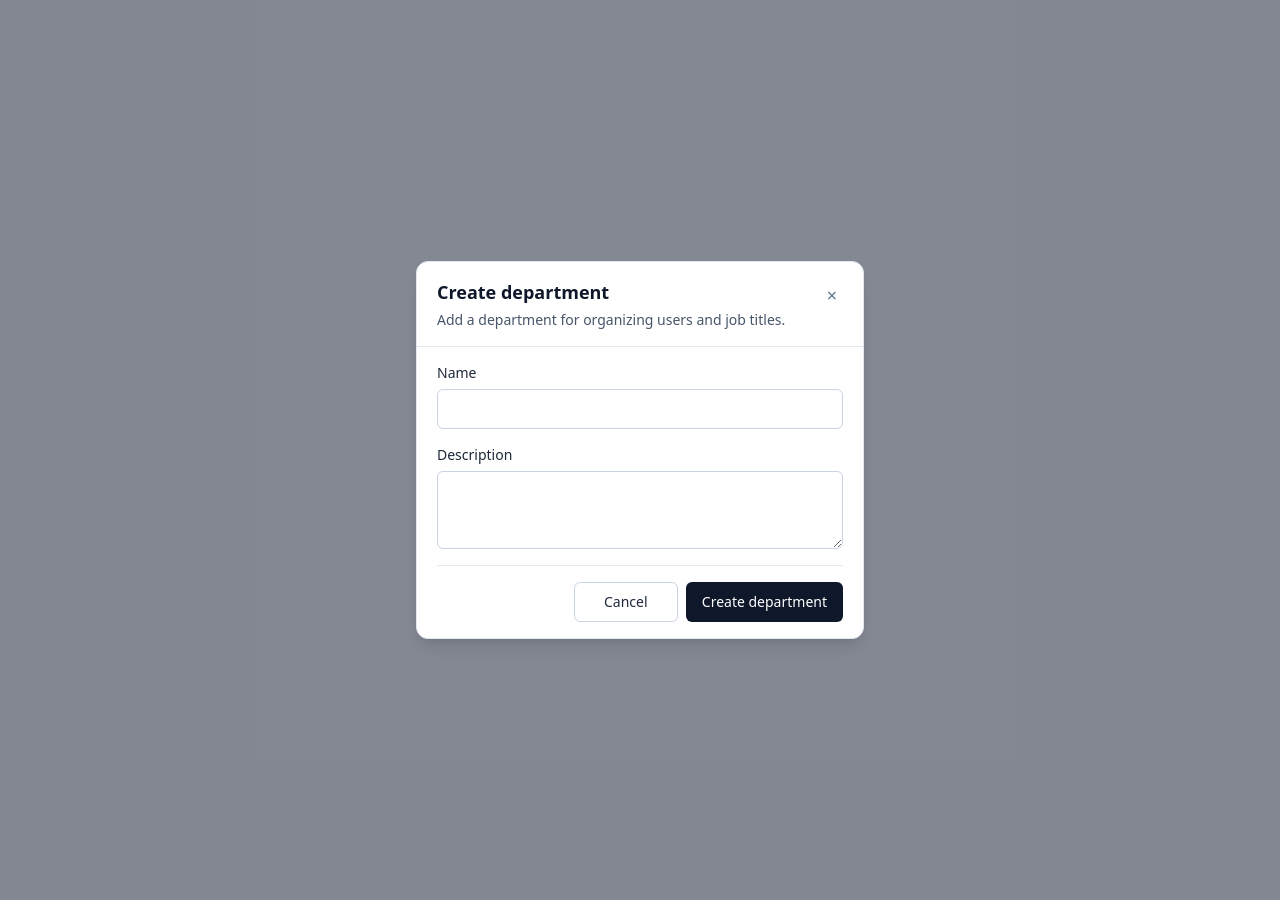
Test case: DepartmentFormDialog refresh-before-close › keeps the dialog open when the create mutation fails
The width and height of the screenshot is (1280, 900).
Type "Accounting" into the field with id "department_name" at (640, 409), box x1=437 y1=389 x2=843 y2=429
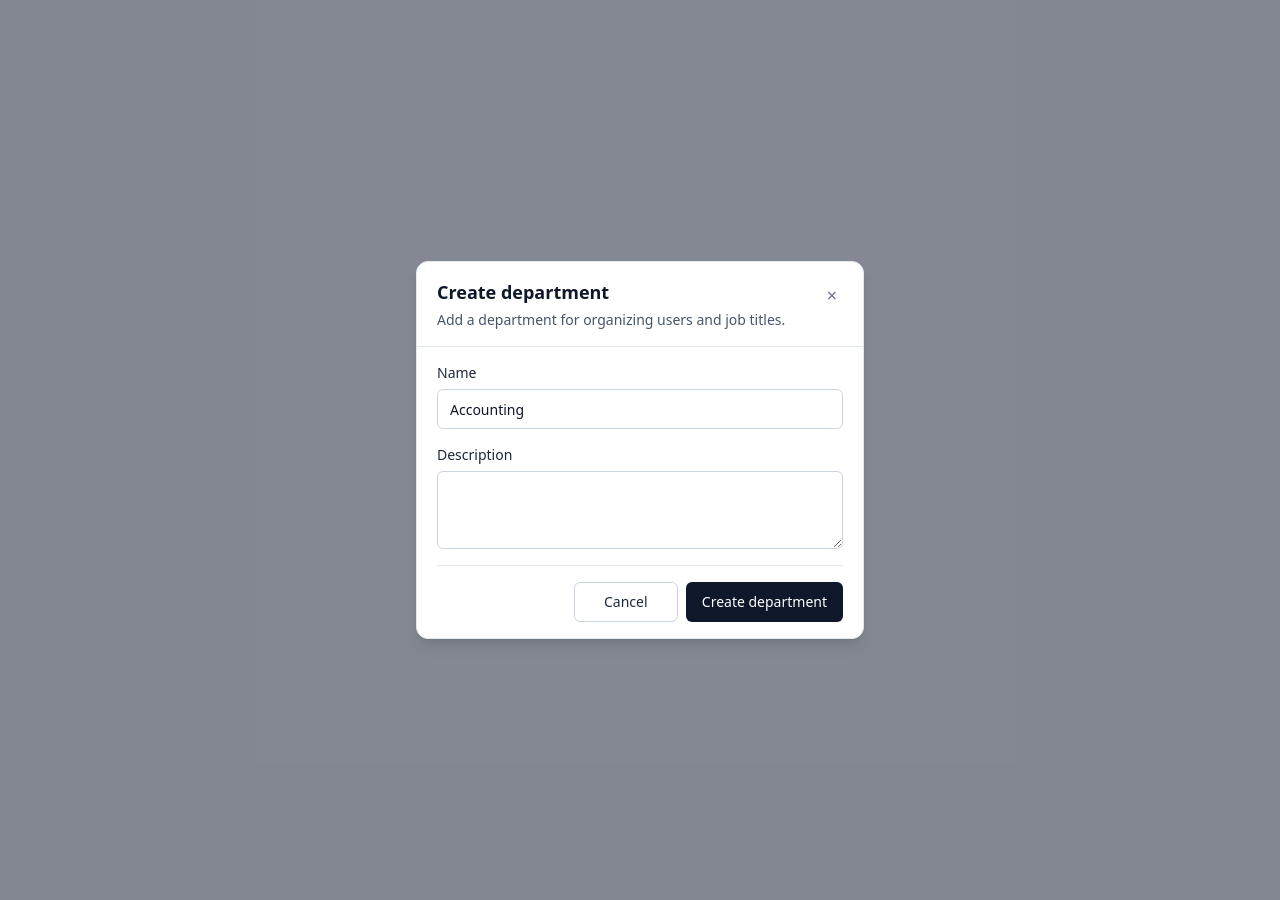
Submit the form with test id "department-form", box x1=437 y1=363 x2=843 y2=622
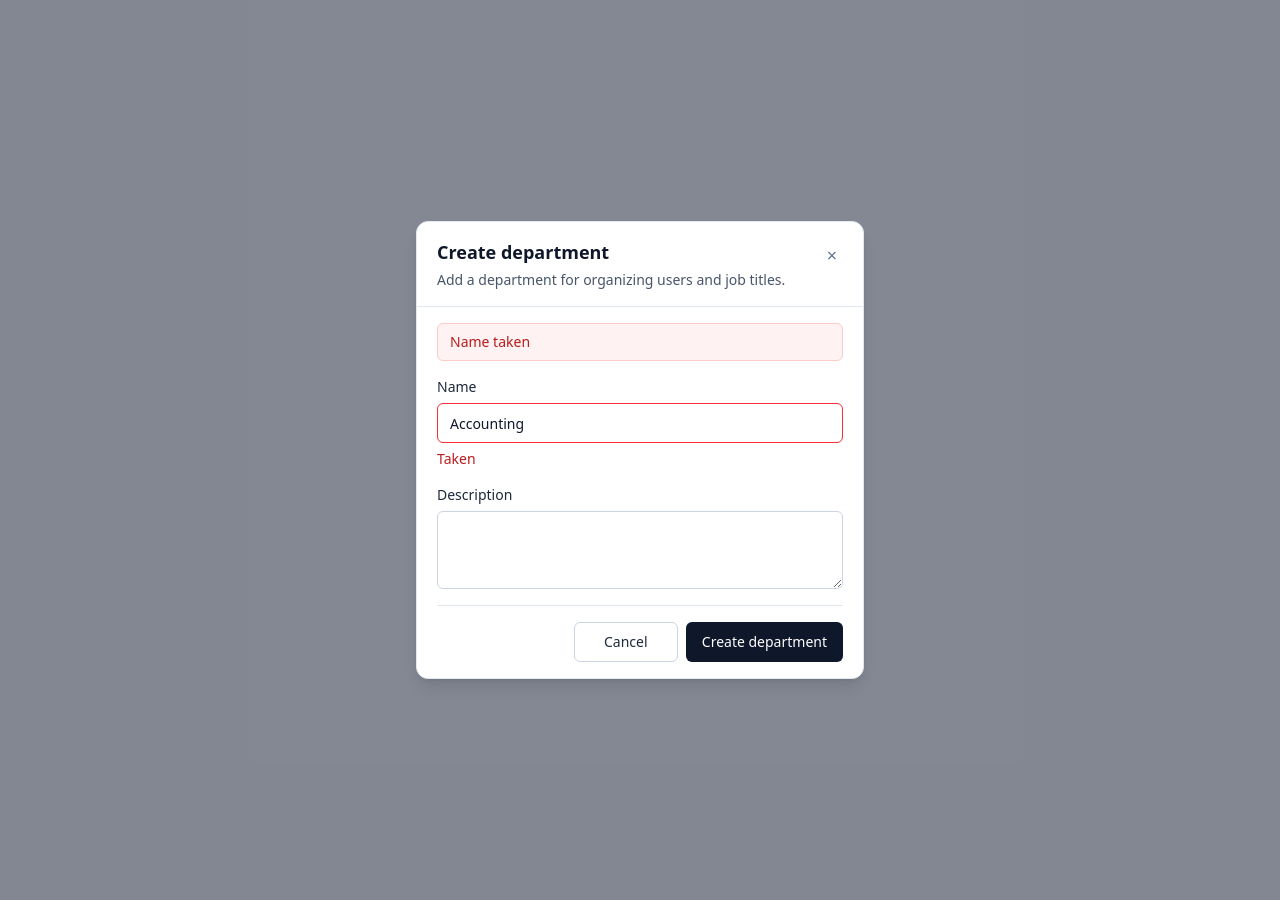
Expected: the form is shown, x1=437 y1=323 x2=843 y2=662
Expected: the form shows "Name taken", x1=450 y1=332 x2=530 y2=351
